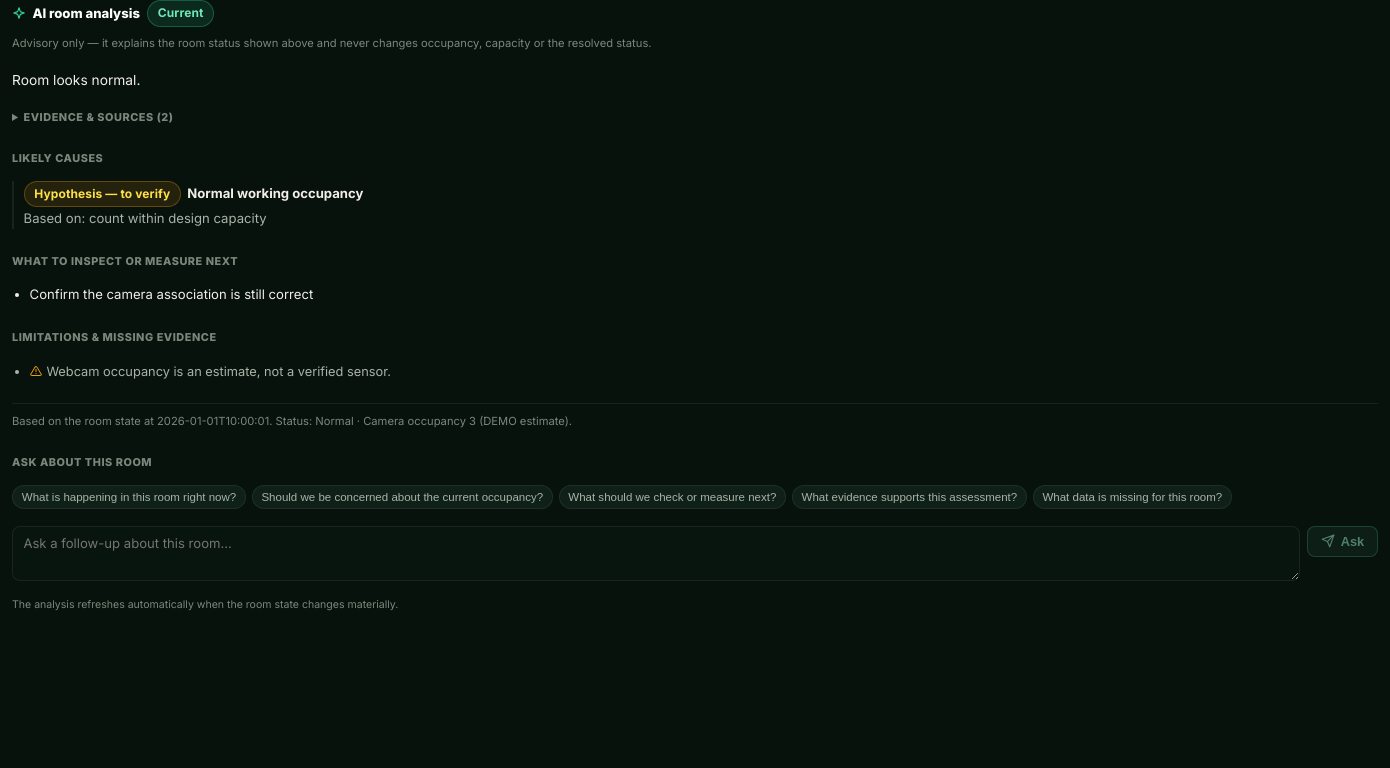
RoomAnalysis — in-workflow follow-ups › offers suggestion chips that ask a scoped follow-up
Expected: the text "Room looks normal." is shown, [12,72,140,88]
Click the 1st button with test id "room-ai-followup-suggestion" at (129, 497), box [12,485,246,509]
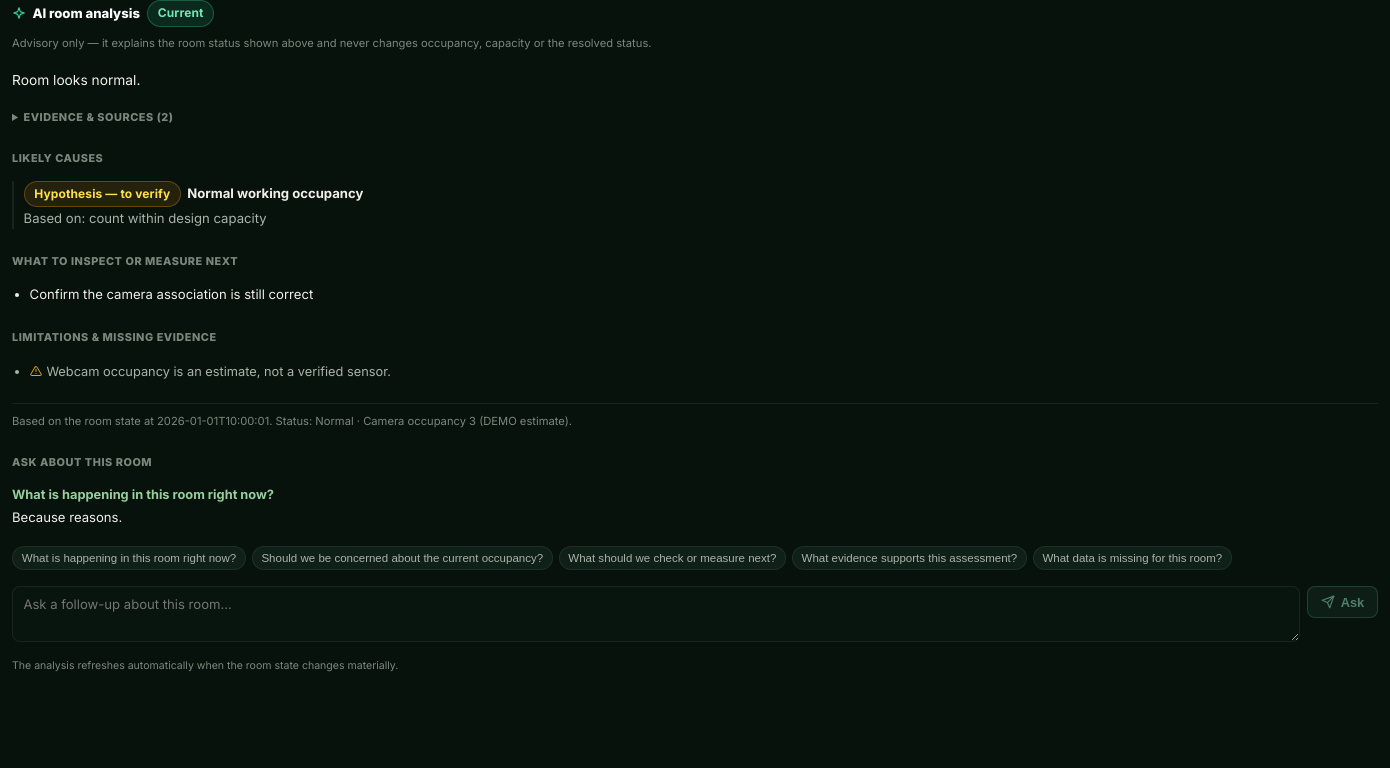
Result: the text "Because reasons." is shown at [12,510,122,526]
Result: the text "What is happening in this room right now?" is shown at [12,487,274,502]
